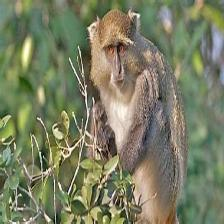monkey: (89, 11, 184, 224)
